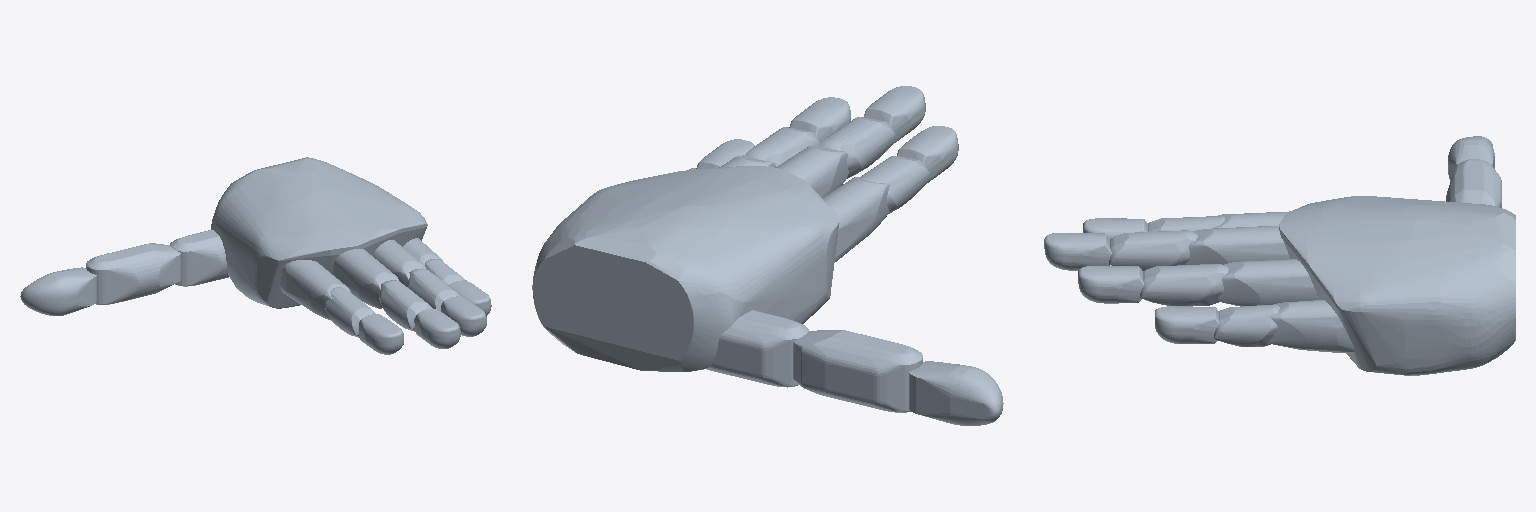
URDF robot description (hand):
<robot name="hand"><link name="LH_palm"><inertial><mass value=".01" /><inertia ixx=".00001" iyy=".00001" izz=".00001" ixy="0" ixz="0" iyz="0" /></inertial><visual><geometry><mesh filename="hand_LH_palm.obj" /></geometry><material name="neutral"><color rgba=".72 .77 .82 1" /></material></visual></link><link name="LH_thumb1"><inertial><mass value=".01" /><inertia ixx=".00001" iyy=".00001" izz=".00001" ixy="0" ixz="0" iyz="0" /></inertial><visual><geometry><mesh filename="hand_LH_thumb1.obj" /></geometry><material name="neutral"><color rgba=".72 .77 .82 1" /></material></visual></link><joint name="fixed_LH_thumb1" type="fixed"><parent link="LH_palm" /><child link="LH_thumb1" /></joint><link name="LH_thumb2"><inertial><mass value=".01" /><inertia ixx=".00001" iyy=".00001" izz=".00001" ixy="0" ixz="0" iyz="0" /></inertial><visual><geometry><mesh filename="hand_LH_thumb2.obj" /></geometry><material name="neutral"><color rgba=".72 .77 .82 1" /></material></visual></link><joint name="fixed_LH_thumb2" type="fixed"><parent link="LH_palm" /><child link="LH_thumb2" /></joint><link name="LH_thumb3"><inertial><mass value=".01" /><inertia ixx=".00001" iyy=".00001" izz=".00001" ixy="0" ixz="0" iyz="0" /></inertial><visual><geometry><mesh filename="hand_LH_thumb3.obj" /></geometry><material name="neutral"><color rgba=".72 .77 .82 1" /></material></visual></link><joint name="fixed_LH_thumb3" type="fixed"><parent link="LH_palm" /><child link="LH_thumb3" /></joint><link name="LH_index1"><inertial><mass value=".01" /><inertia ixx=".00001" iyy=".00001" izz=".00001" ixy="0" ixz="0" iyz="0" /></inertial><visual><geometry><mesh filename="hand_LH_index1.obj" /></geometry><material name="neutral"><color rgba=".72 .77 .82 1" /></material></visual></link><joint name="fixed_LH_index1" type="fixed"><parent link="LH_palm" /><child link="LH_index1" /></joint><link name="LH_index2"><inertial><mass value=".01" /><inertia ixx=".00001" iyy=".00001" izz=".00001" ixy="0" ixz="0" iyz="0" /></inertial><visual><geometry><mesh filename="hand_LH_index2.obj" /></geometry><material name="neutral"><color rgba=".72 .77 .82 1" /></material></visual></link><joint name="fixed_LH_index2" type="fixed"><parent link="LH_palm" /><child link="LH_index2" /></joint><link name="LH_index3"><inertial><mass value=".01" /><inertia ixx=".00001" iyy=".00001" izz=".00001" ixy="0" ixz="0" iyz="0" /></inertial><visual><geometry><mesh filename="hand_LH_index3.obj" /></geometry><material name="neutral"><color rgba=".72 .77 .82 1" /></material></visual></link><joint name="fixed_LH_index3" type="fixed"><parent link="LH_palm" /><child link="LH_index3" /></joint><link name="LH_middle1"><inertial><mass value=".01" /><inertia ixx=".00001" iyy=".00001" izz=".00001" ixy="0" ixz="0" iyz="0" /></inertial><visual><geometry><mesh filename="hand_LH_middle1.obj" /></geometry><material name="neutral"><color rgba=".72 .77 .82 1" /></material></visual></link><joint name="fixed_LH_middle1" type="fixed"><parent link="LH_palm" /><child link="LH_middle1" /></joint><link name="LH_middle2"><inertial><mass value=".01" /><inertia ixx=".00001" iyy=".00001" izz=".00001" ixy="0" ixz="0" iyz="0" /></inertial><visual><geometry><mesh filename="hand_LH_middle2.obj" /></geometry><material name="neutral"><color rgba=".72 .77 .82 1" /></material></visual></link><joint name="fixed_LH_middle2" type="fixed"><parent link="LH_palm" /><child link="LH_middle2" /></joint><link name="LH_middle3"><inertial><mass value=".01" /><inertia ixx=".00001" iyy=".00001" izz=".00001" ixy="0" ixz="0" iyz="0" /></inertial><visual><geometry><mesh filename="hand_LH_middle3.obj" /></geometry><material name="neutral"><color rgba=".72 .77 .82 1" /></material></visual></link><joint name="fixed_LH_middle3" type="fixed"><parent link="LH_palm" /><child link="LH_middle3" /></joint><link name="LH_ring1"><inertial><mass value=".01" /><inertia ixx=".00001" iyy=".00001" izz=".00001" ixy="0" ixz="0" iyz="0" /></inertial><visual><geometry><mesh filename="hand_LH_ring1.obj" /></geometry><material name="neutral"><color rgba=".72 .77 .82 1" /></material></visual></link><joint name="fixed_LH_ring1" type="fixed"><parent link="LH_palm" /><child link="LH_ring1" /></joint><link name="LH_ring2"><inertial><mass value=".01" /><inertia ixx=".00001" iyy=".00001" izz=".00001" ixy="0" ixz="0" iyz="0" /></inertial><visual><geometry><mesh filename="hand_LH_ring2.obj" /></geometry><material name="neutral"><color rgba=".72 .77 .82 1" /></material></visual></link><joint name="fixed_LH_ring2" type="fixed"><parent link="LH_palm" /><child link="LH_ring2" /></joint><link name="LH_ring3"><inertial><mass value=".01" /><inertia ixx=".00001" iyy=".00001" izz=".00001" ixy="0" ixz="0" iyz="0" /></inertial><visual><geometry><mesh filename="hand_LH_ring3.obj" /></geometry><material name="neutral"><color rgba=".72 .77 .82 1" /></material></visual></link><joint name="fixed_LH_ring3" type="fixed"><parent link="LH_palm" /><child link="LH_ring3" /></joint><link name="LH_pinky1"><inertial><mass value=".01" /><inertia ixx=".00001" iyy=".00001" izz=".00001" ixy="0" ixz="0" iyz="0" /></inertial><visual><geometry><mesh filename="hand_LH_pinky1.obj" /></geometry><material name="neutral"><color rgba=".72 .77 .82 1" /></material></visual></link><joint name="fixed_LH_pinky1" type="fixed"><parent link="LH_palm" /><child link="LH_pinky1" /></joint><link name="LH_pinky2"><inertial><mass value=".01" /><inertia ixx=".00001" iyy=".00001" izz=".00001" ixy="0" ixz="0" iyz="0" /></inertial><visual><geometry><mesh filename="hand_LH_pinky2.obj" /></geometry><material name="neutral"><color rgba=".72 .77 .82 1" /></material></visual></link><joint name="fixed_LH_pinky2" type="fixed"><parent link="LH_palm" /><child link="LH_pinky2" /></joint><link name="LH_pinky3"><inertial><mass value=".01" /><inertia ixx=".00001" iyy=".00001" izz=".00001" ixy="0" ixz="0" iyz="0" /></inertial><visual><geometry><mesh filename="hand_LH_pinky3.obj" /></geometry><material name="neutral"><color rgba=".72 .77 .82 1" /></material></visual></link><joint name="fixed_LH_pinky3" type="fixed"><parent link="LH_palm" /><child link="LH_pinky3" /></joint></robot>

--- Facts derived from the render (not from the file) ---
The picture shows the robot from 3 angles, left to right: view 1: azimuth 30°, elevation 25°; view 2: azimuth 150°, elevation 25°; view 3: azimuth 270°, elevation 25°; orthographic projection.
Robot: hand — 16 links, 15 joints (15 fixed); root link LH_palm; default pose: all joints at 0.
Visible links, largest first — view 1: LH_palm, LH_thumb2, LH_thumb3, LH_thumb1, LH_index1, LH_middle1, LH_middle2, LH_index2, LH_middle3, LH_index3, LH_ring3, LH_ring2 (+2 smaller); view 2: LH_palm, LH_thumb2, LH_thumb1, LH_thumb3, LH_index1, LH_middle2, LH_middle1, LH_index2, LH_middle3, LH_index3, LH_ring3, LH_ring2 (+1 smaller); view 3: LH_palm, LH_ring1, LH_pinky1, LH_middle1, LH_ring2, LH_middle2, LH_ring3, LH_pinky2, LH_pinky3, LH_middle3, LH_thumb2, LH_thumb3 (+3 smaller).
Link boxes in pixels (x1,y1,x2,y2): LH_palm: [211, 157, 427, 308]; LH_thumb2: [86, 243, 180, 304]; LH_thumb3: [20, 267, 96, 315]; LH_thumb1: [170, 230, 228, 286]; LH_index1: [280, 260, 350, 320]; LH_middle1: [332, 249, 399, 308]; LH_middle2: [379, 280, 432, 331]; LH_index2: [325, 287, 375, 337]; LH_middle3: [414, 309, 460, 348]; LH_index3: [359, 314, 403, 354]; LH_ring3: [441, 296, 486, 336]; LH_ring2: [408, 268, 459, 310]; LH_palm: [532, 166, 838, 371]; LH_thumb2: [793, 330, 922, 412]; LH_thumb1: [707, 310, 808, 387]; LH_thumb3: [909, 361, 1003, 425]; LH_index1: [822, 177, 889, 261]; LH_middle2: [819, 117, 895, 178]; LH_middle1: [776, 145, 848, 197]; LH_index2: [860, 156, 930, 213]; LH_middle3: [864, 86, 925, 143]; LH_index3: [897, 126, 958, 182]; LH_ring3: [789, 97, 850, 142]; LH_ring2: [745, 127, 820, 166]; LH_palm: [1279, 196, 1515, 375]; LH_ring1: [1218, 259, 1318, 306]; LH_pinky1: [1268, 300, 1354, 352]; LH_middle1: [1185, 226, 1289, 264]; LH_ring2: [1140, 264, 1228, 305]; LH_middle2: [1109, 230, 1197, 270]; LH_ring3: [1078, 266, 1143, 303]; LH_pinky2: [1214, 305, 1279, 346]; LH_pinky3: [1155, 306, 1218, 343]; LH_middle3: [1044, 233, 1111, 270]; LH_thumb2: [1446, 159, 1501, 207]; LH_thumb3: [1448, 136, 1494, 181].
Size in the robot's own frame: 0.1846 by 0.1801 by 0.0475 metres.
16 mesh visuals loaded from 16 distinct referenced files (16 OBJ).
